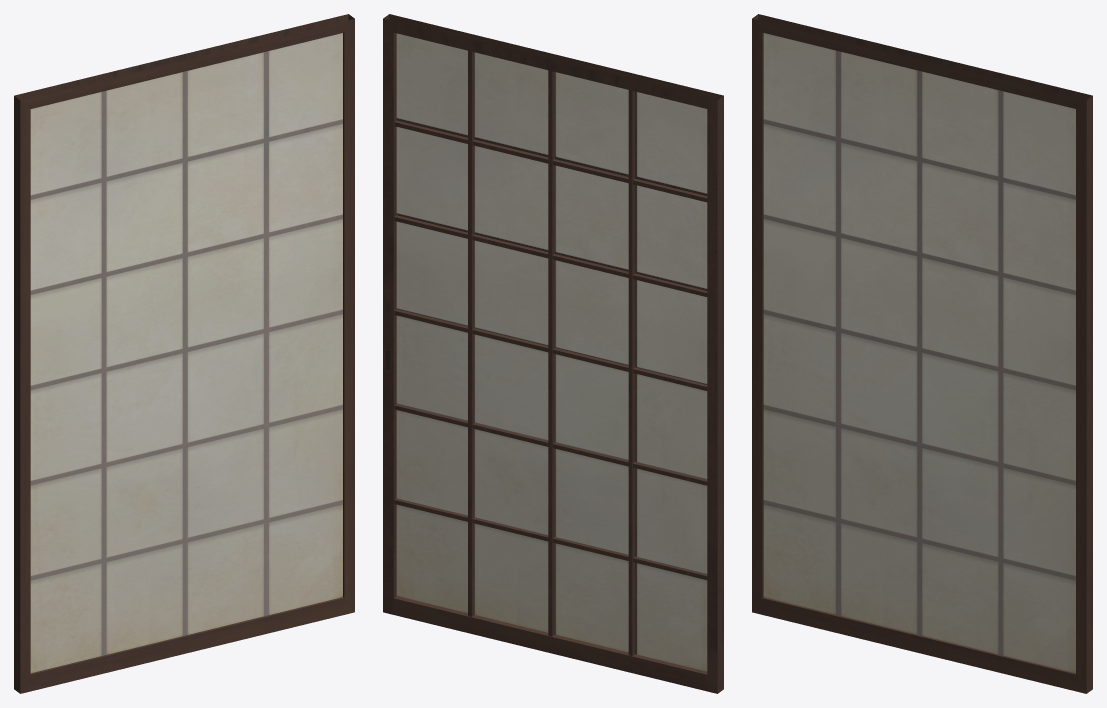
File: Slidedoor02_L.fbx
3 renders of one model, left to right at view 1: azimuth 30°, elevation 25°; view 2: azimuth 150°, elevation 25°; view 3: azimuth 330°, elevation 25°, orthographic.
Visible parts, largest first — view 1: Slidedoor02_L; view 2: Slidedoor02_L; view 3: Slidedoor02_L.
Boxes of the visible parts, x1=… form: Slidedoor02_L: x1=14, y1=14, x2=354, y2=693; Slidedoor02_L: x1=383, y1=14, x2=723, y2=693; Slidedoor02_L: x1=752, y1=14, x2=1092, y2=693.
Size of the model in its own units: 108 by 184 by 3.58.
